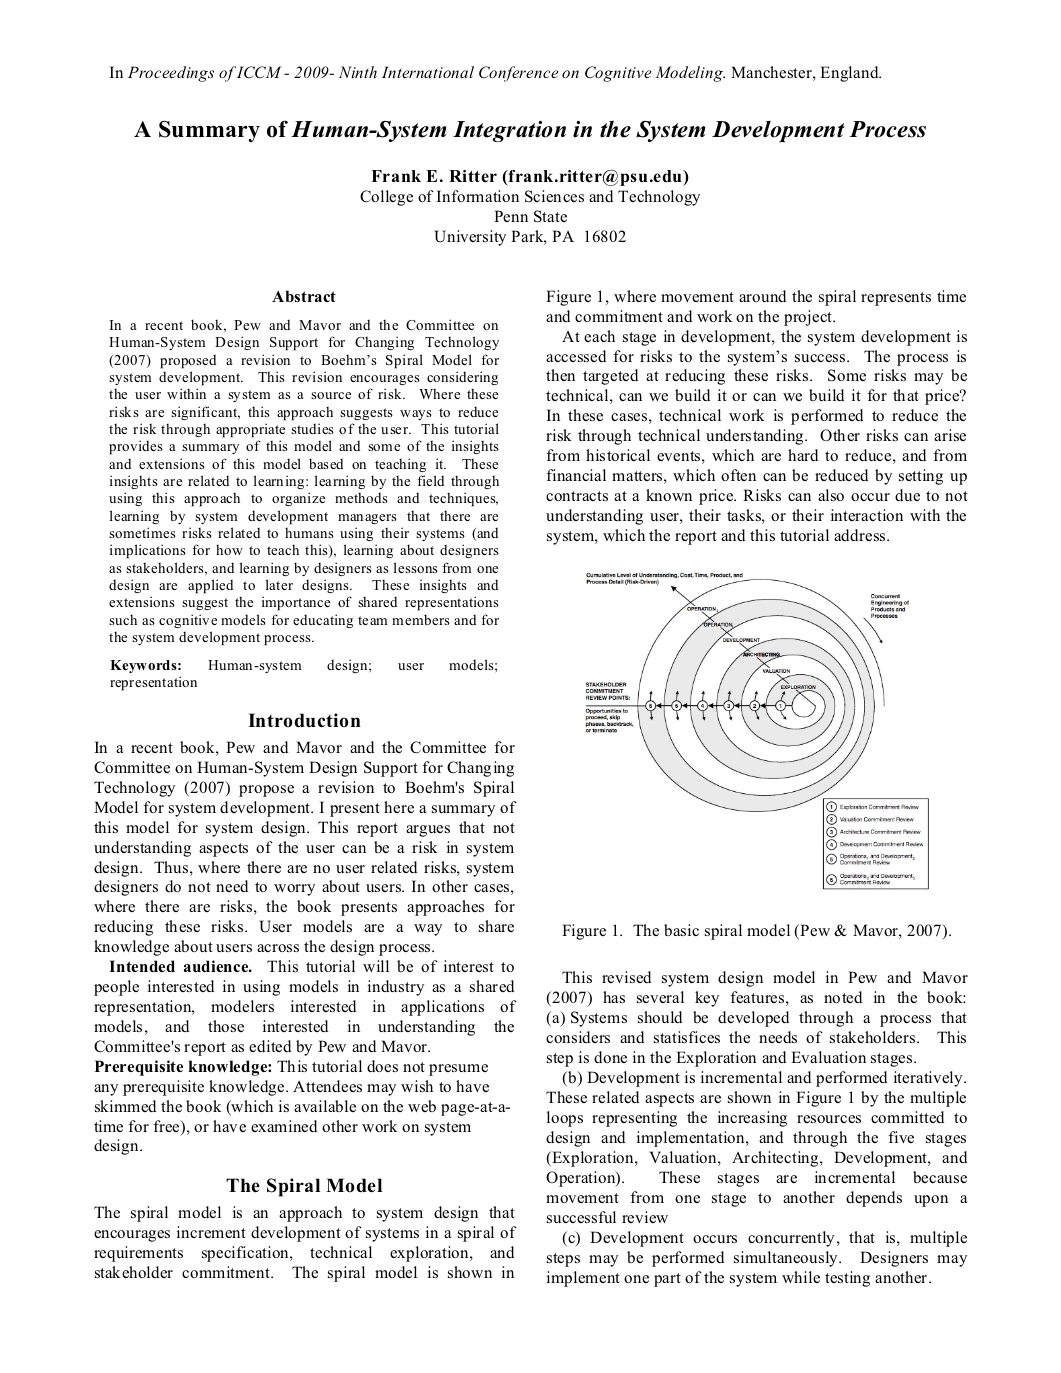figure: (585, 572, 928, 889)
